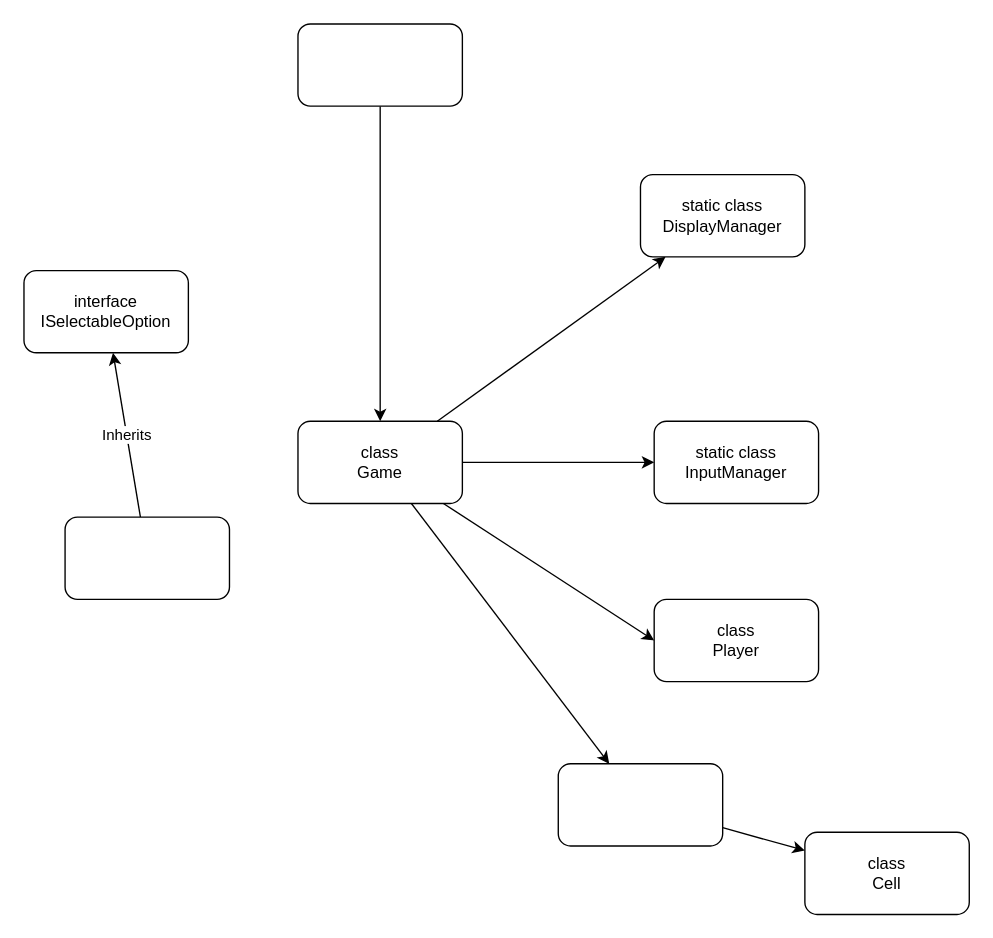
This 993x938 diagram has some shape labels left out. Each missing label, with the box of its shape:
class Labyrinth: (557, 762, 723, 846)
class Program: (297, 23, 462, 106)
struct SizeOption: (64, 516, 229, 599)
